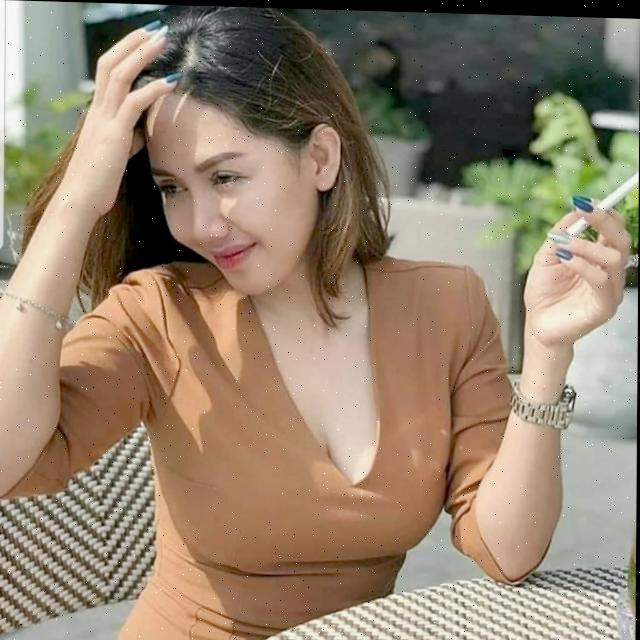cigarette: (565, 166, 639, 236)
